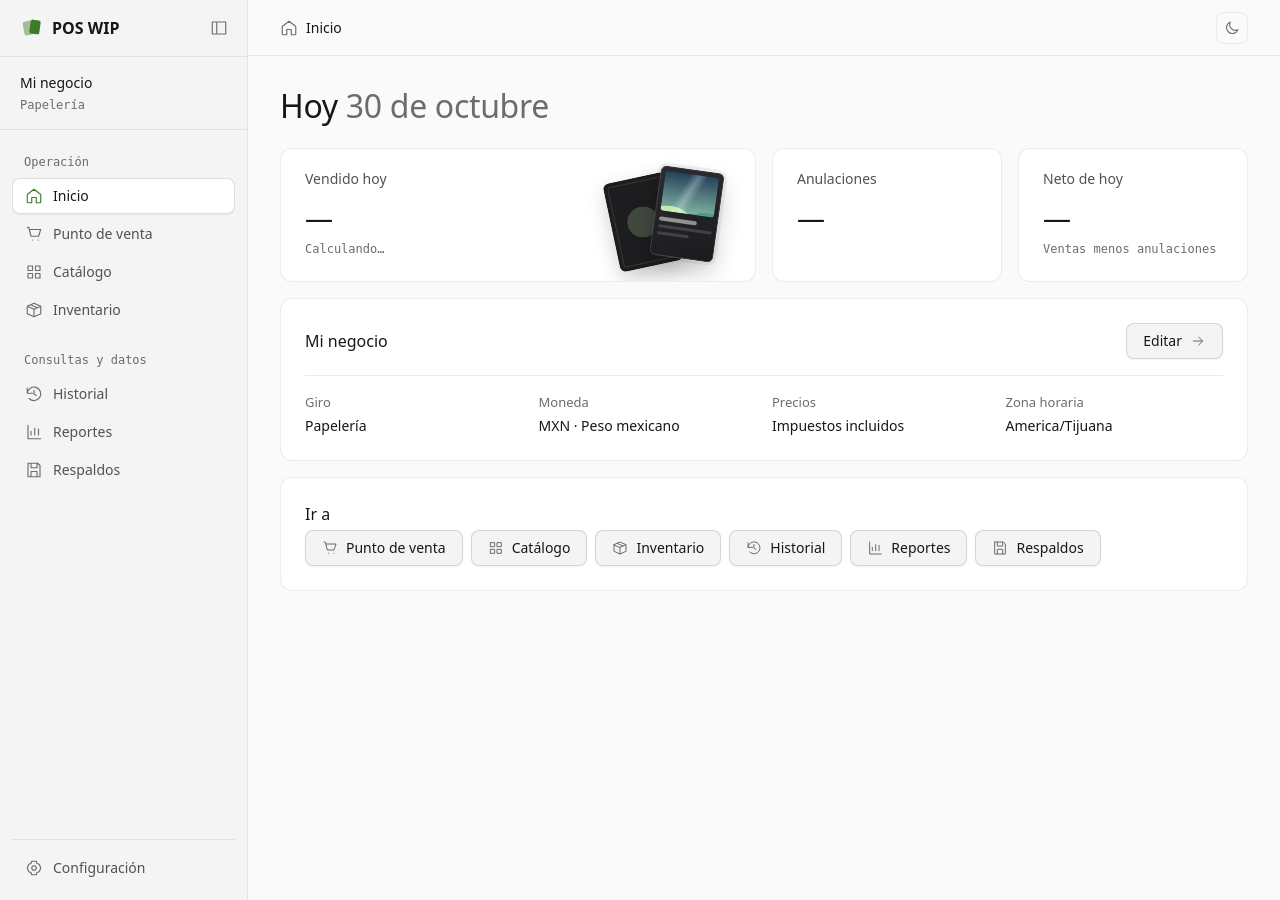
flujo del POS (puente Tauri simulado) › crea una categoría desde la plantilla de cartas
Click the button "Catálogo" below "Operación": click(124, 272) [12,254,235,290]
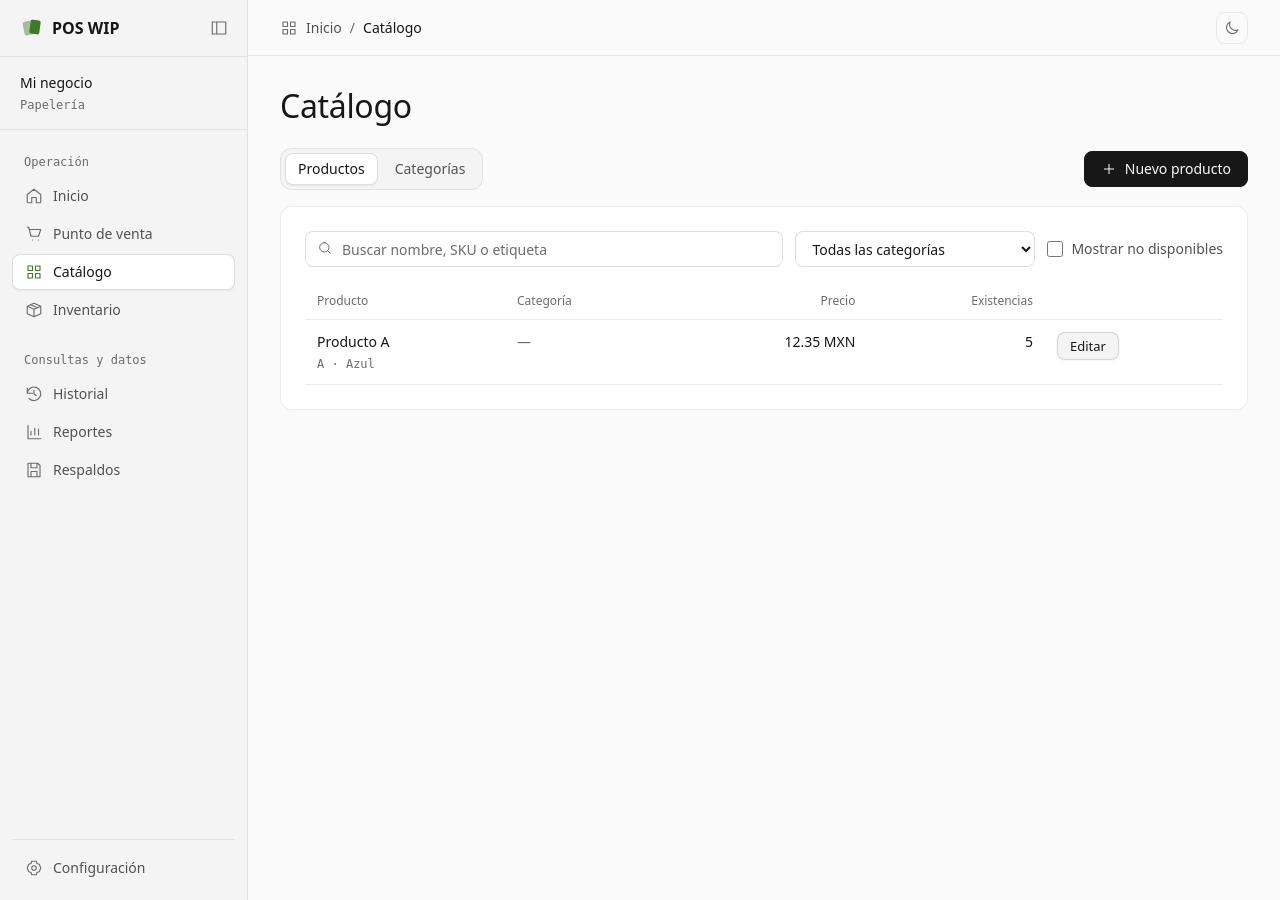
Click the tab "Categorías": click(430, 169) [382,153,478,185]
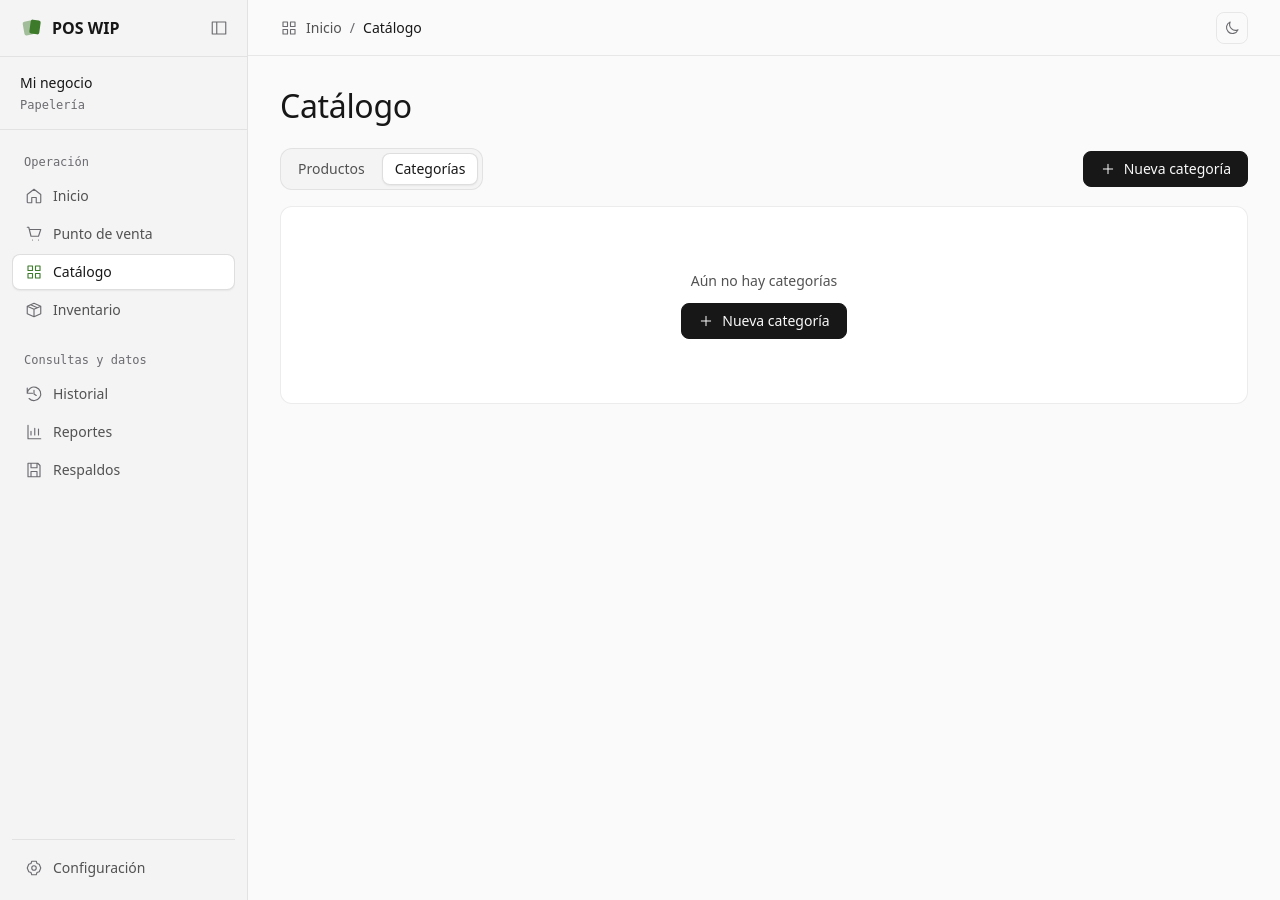
Click the 1st button "Nueva categoría": click(1165, 169) [1083,151,1248,187]
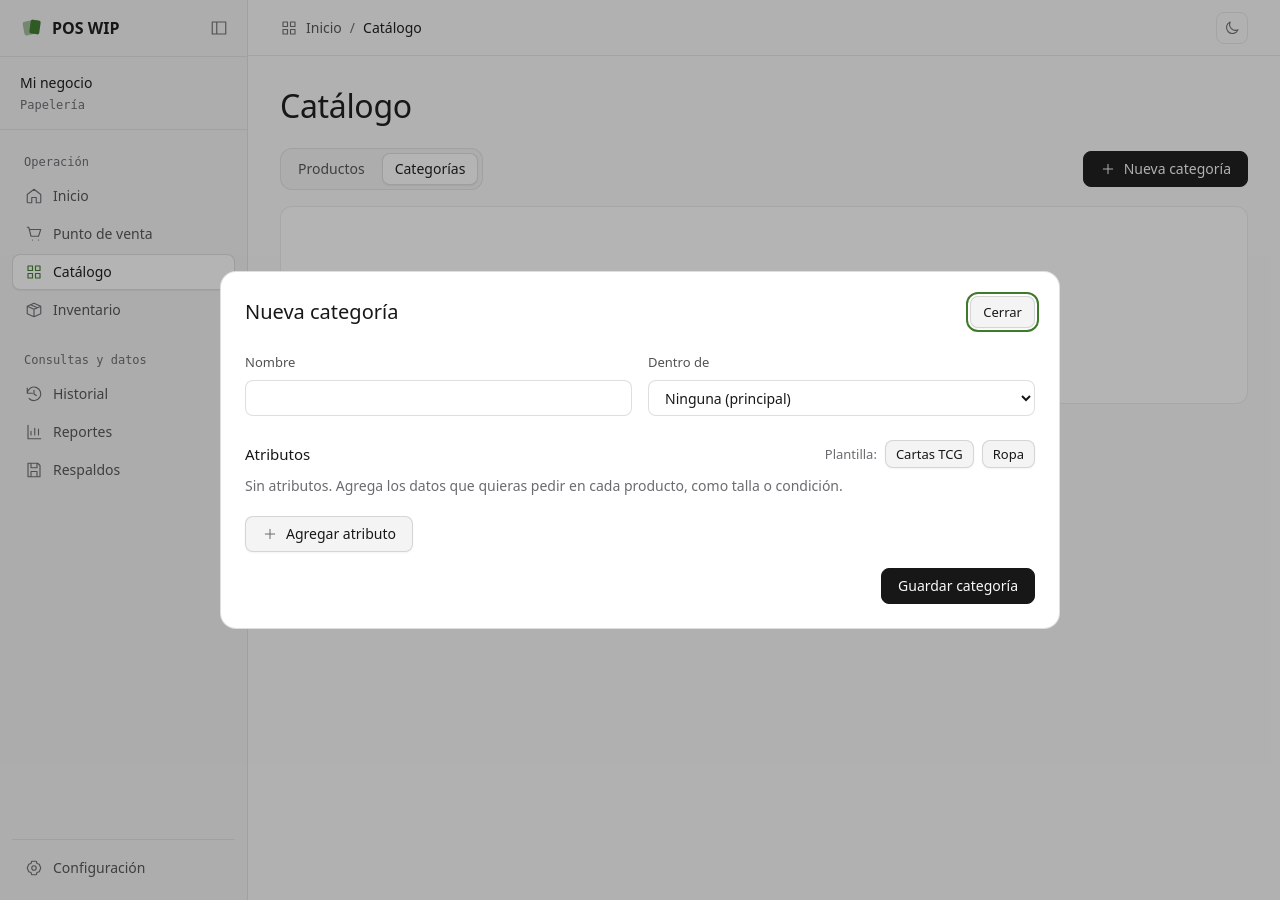
Click the button "Cartas TCG": click(929, 454) [885,440,974,468]
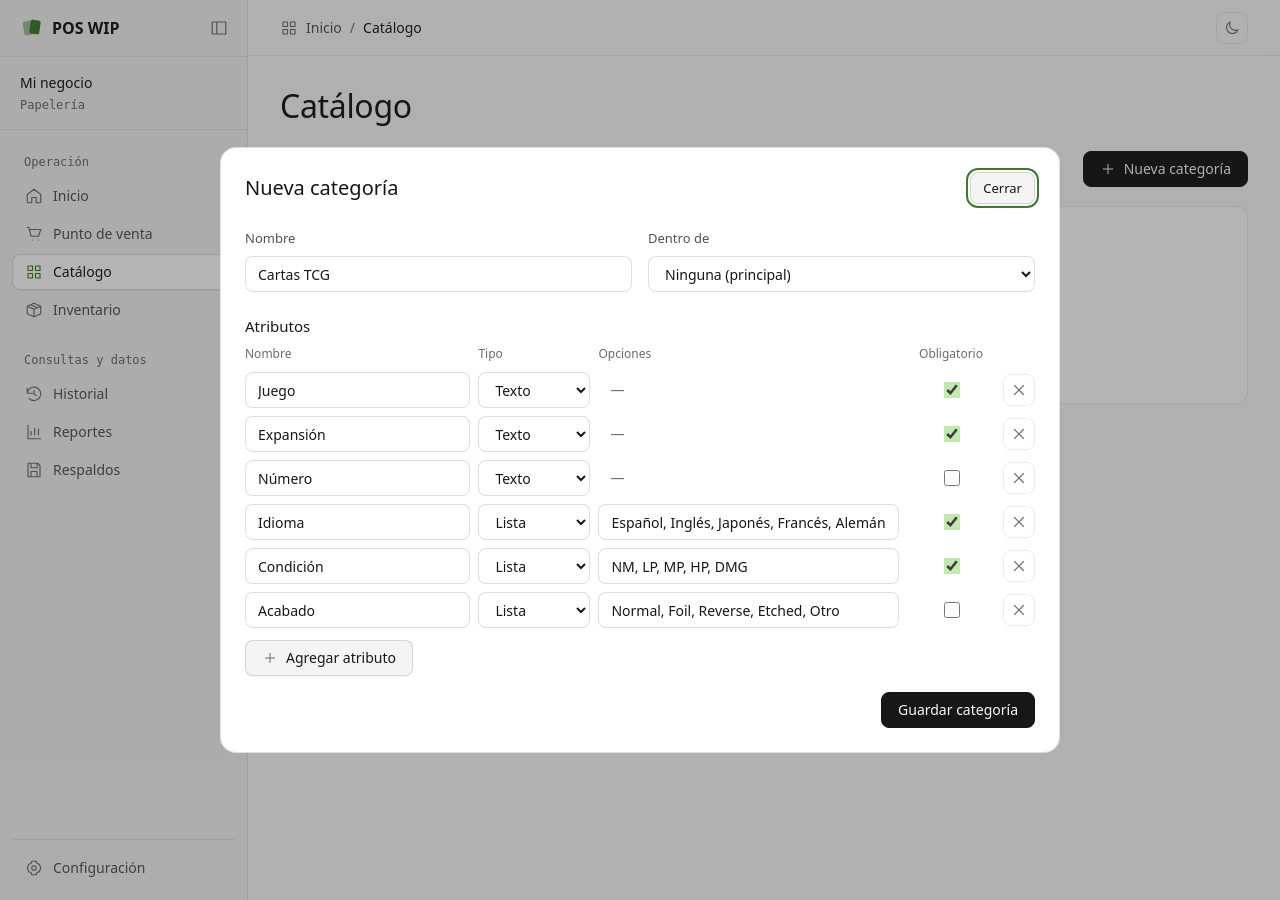
Check: the field labelled "Nombre" holds "Cartas TCG", box [245,256,632,292]
Click the button named "Quitar Acabado": click(1019, 610) [1003,594,1035,626]
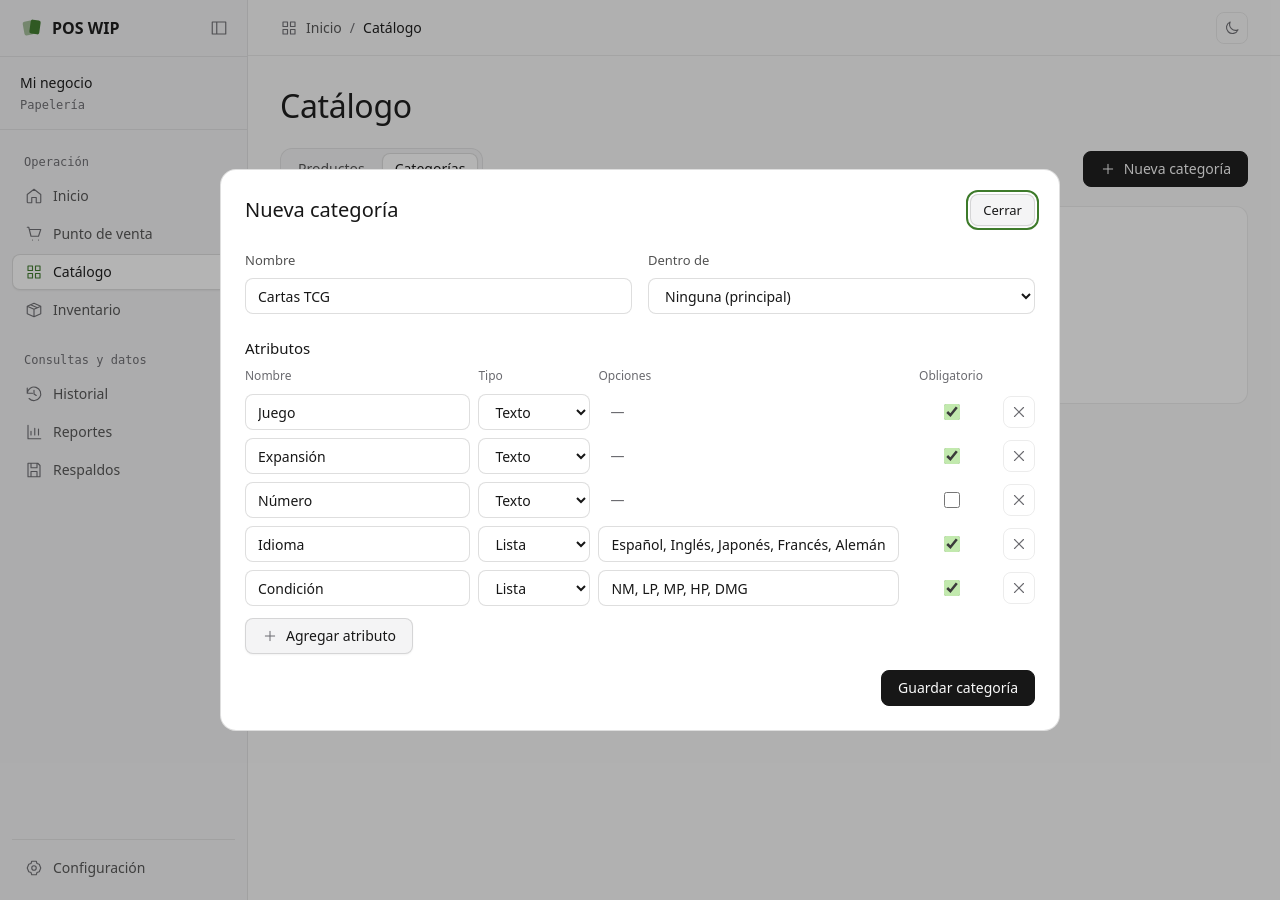
Click the button "Guardar categoría": click(958, 688) [881,670,1035,706]
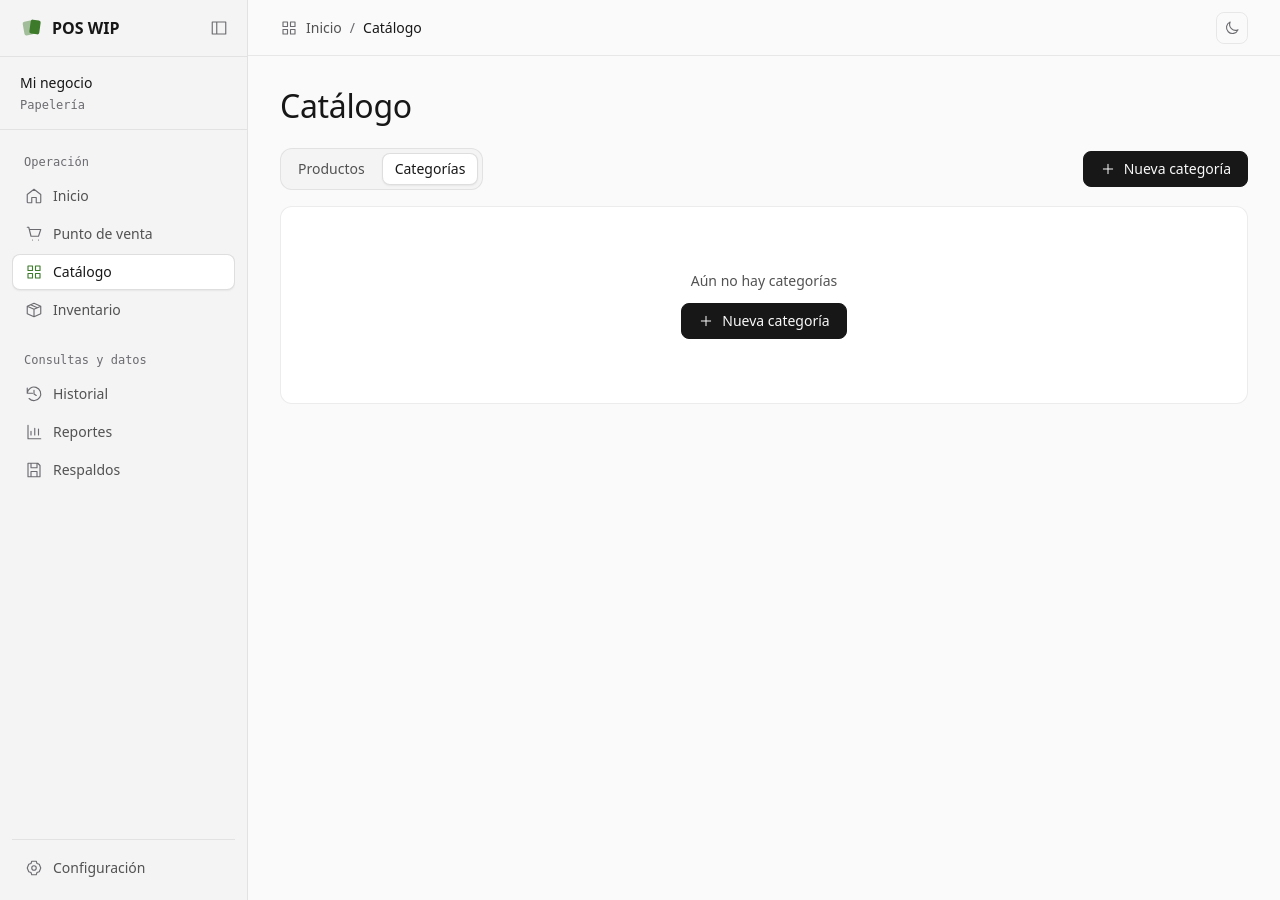
Check: the dialog is gone
